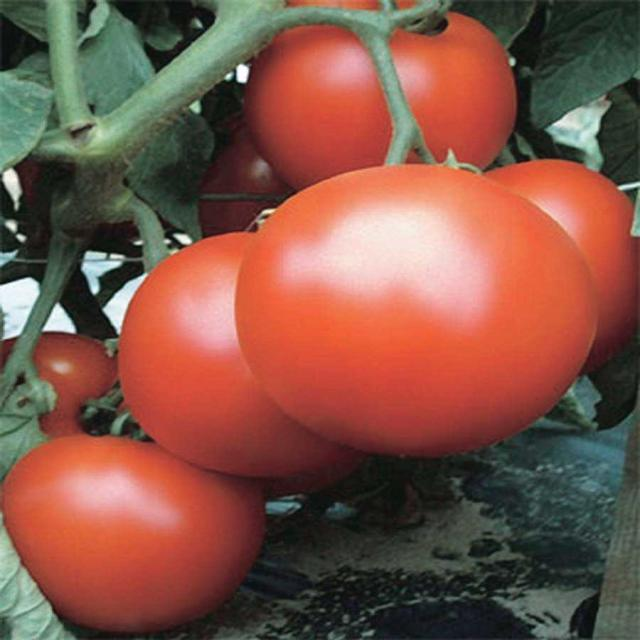kirmizi: (224, 162, 600, 468)
